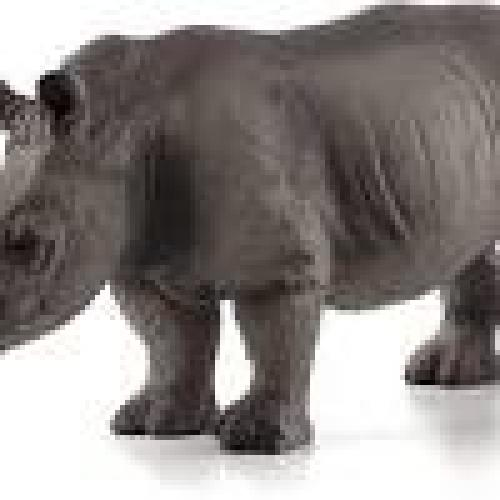rhino-endangered: (0, 5, 500, 459)
